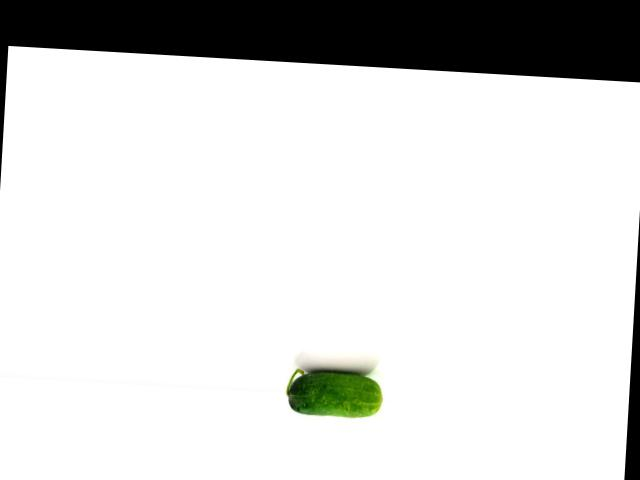cucumber: (286, 367, 385, 418)
